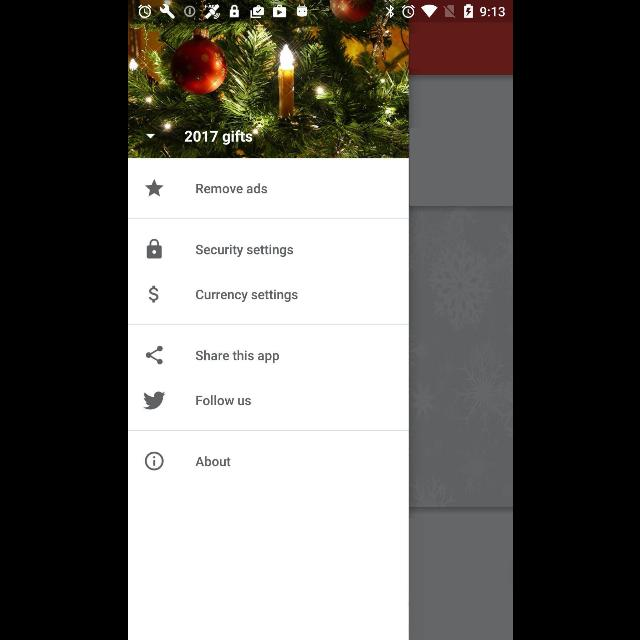icon: (142, 392, 164, 411), (144, 178, 164, 198), (144, 452, 164, 471), (146, 239, 162, 259), (146, 346, 162, 364), (148, 286, 158, 302), (145, 133, 155, 139)
panel: (128, 23, 408, 639)
text: (195, 245, 293, 258), (195, 290, 297, 302), (195, 351, 279, 364), (184, 130, 252, 146), (196, 183, 266, 194), (196, 394, 250, 406), (194, 456, 230, 466)
uppertaskbar: (128, 1, 512, 23)
